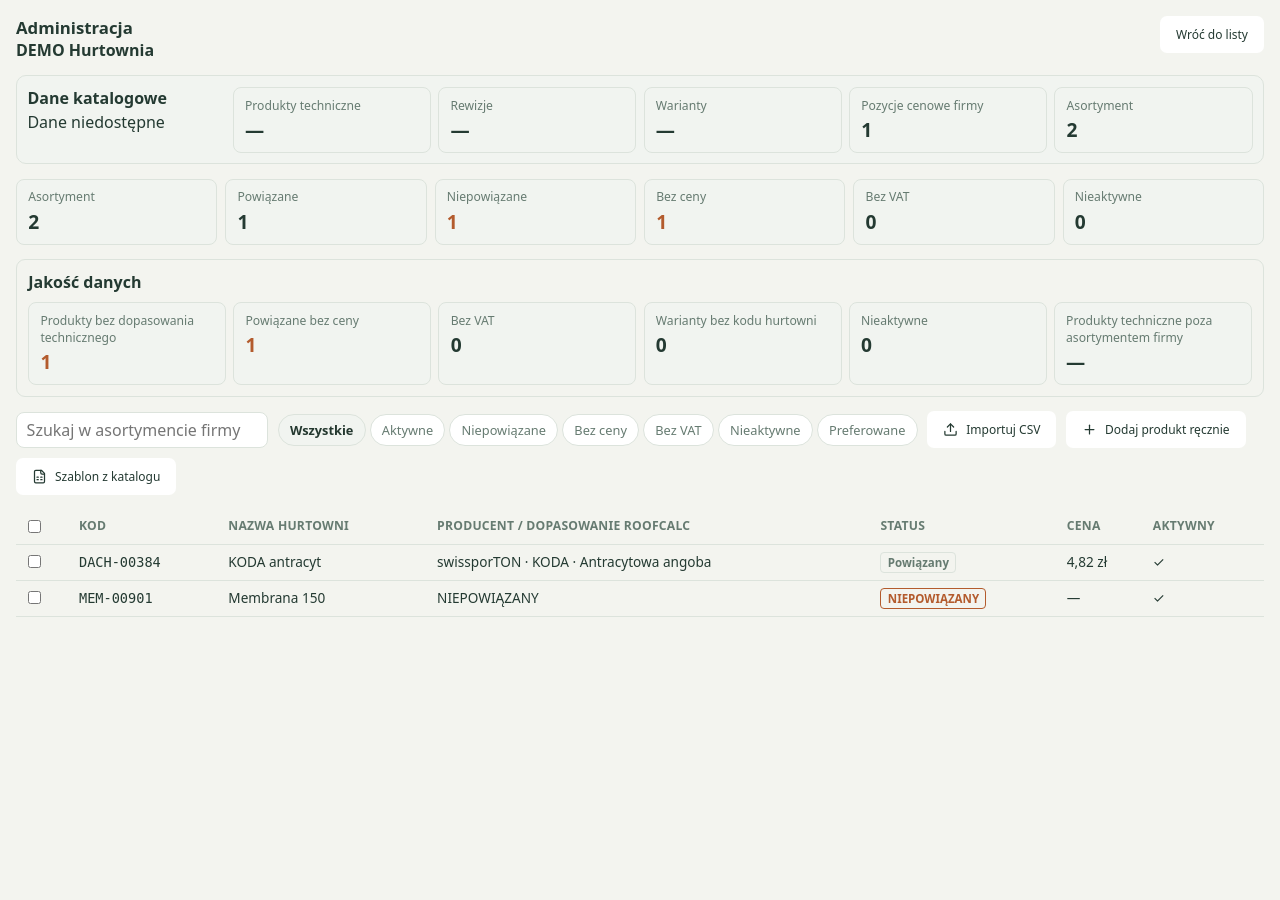
Test: admin assortment › opens a row detail with the internal SKU and the match
Click the button with test id "admin-row" that starts with "DACH-00384" at (640, 562), box [16,544,1264,580]
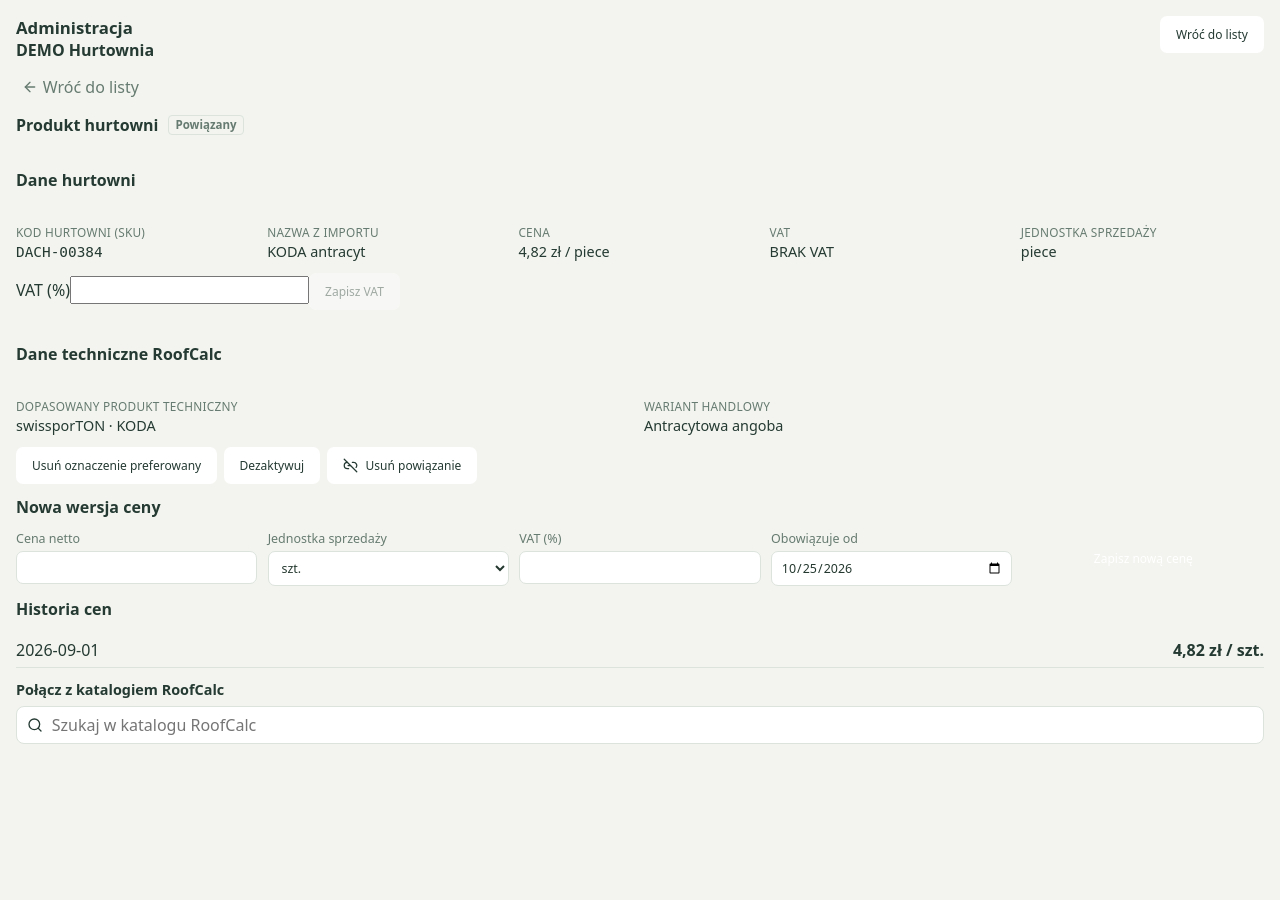
Expected: the text with test id "detail-match" shows "swissporTON", [16,416,156,435]
Expected: the element with test id "assortment-detail" shows "DACH-00384", [16,244,103,260]
Expected: the button with test id "detail-unlink" is shown, [326,447,477,484]
